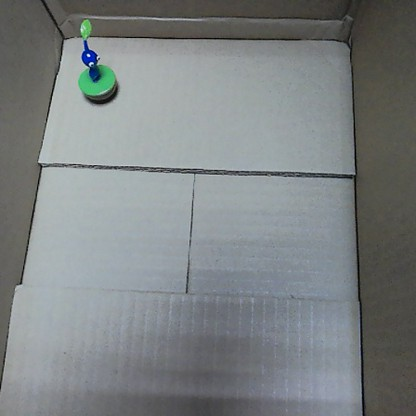leafairy: (72, 15, 121, 104)
